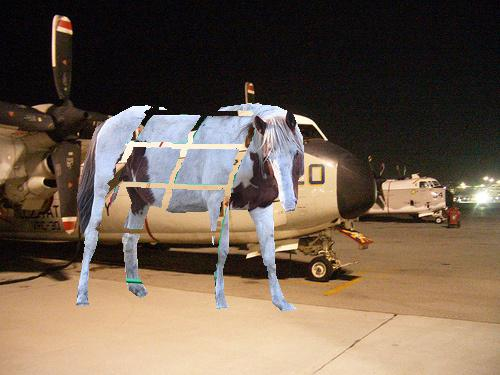tampered: (77, 104, 304, 311)
